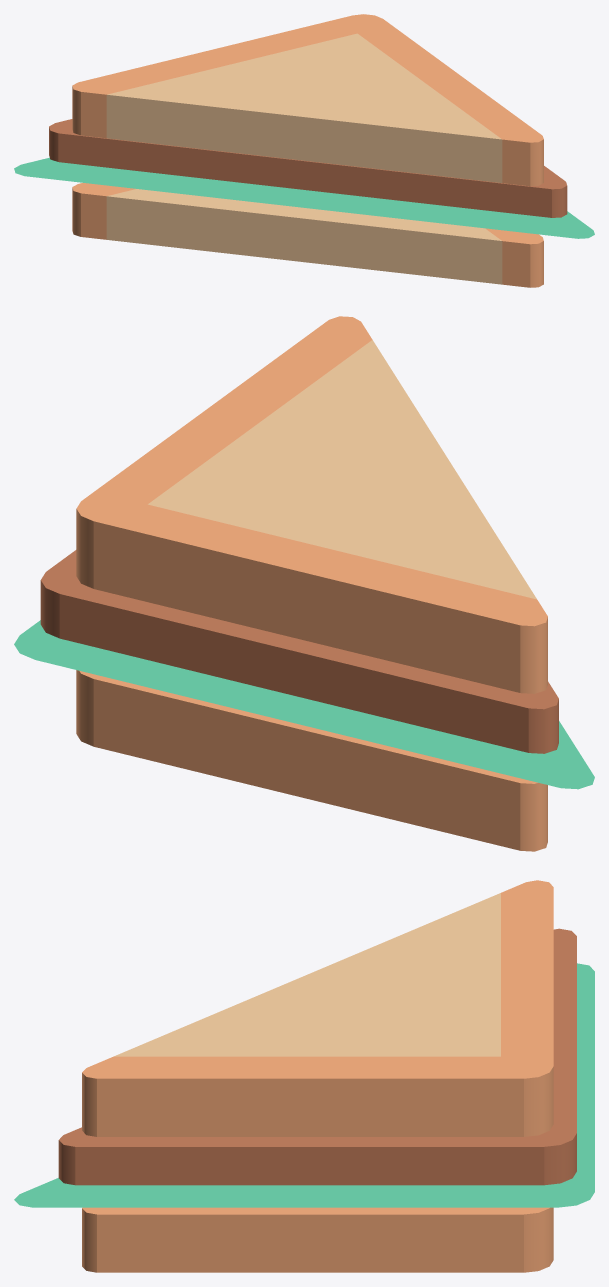
The model's file is Sandwich.glb.
3 renders of one model, top to bottom at view 1: azimuth 30°, elevation 25°; view 2: azimuth 150°, elevation 25°; view 3: azimuth 270°, elevation 25°, orthographic. The views are drawn at different scales.
Visible parts, largest first — view 1: sandwich, meat, lettuce; view 2: sandwich, meat, lettuce; view 3: sandwich, meat, lettuce.
Boxes of the visible parts, left/top/right/bottom form: sandwich: left=72, top=14, right=543, bottom=287; meat: left=49, top=119, right=567, bottom=217; lettuce: left=14, top=157, right=594, bottom=238; sandwich: left=76, top=316, right=547, bottom=851; meat: left=40, top=550, right=558, bottom=753; lettuce: left=14, top=620, right=594, bottom=789; sandwich: left=82, top=880, right=553, bottom=1272; meat: left=58, top=928, right=576, bottom=1185; lettuce: left=14, top=963, right=594, bottom=1207.
Bounding box in the file's own units: 0.4323 × 0.1598 × 0.4339.
